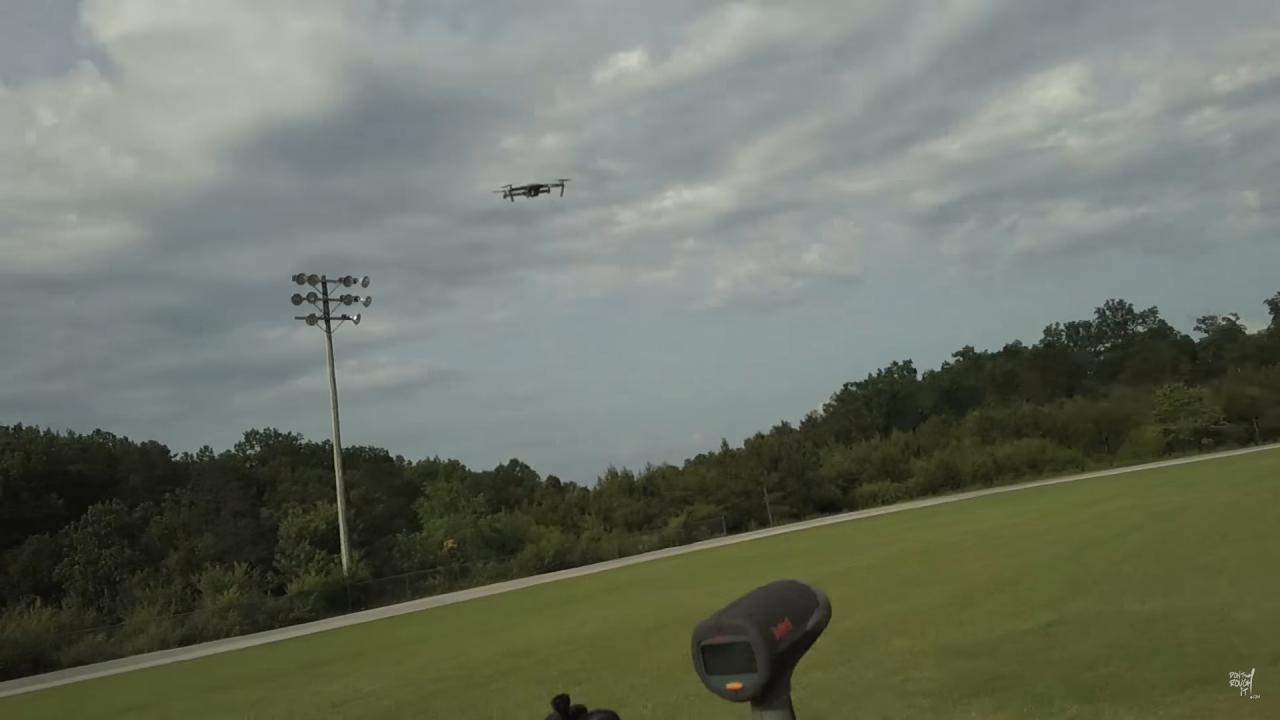Drone: (482, 168, 581, 214)
